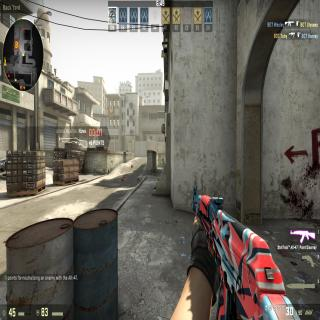CT-Body: (162, 156, 164, 168)
CT-Head: (162, 157, 164, 159)
